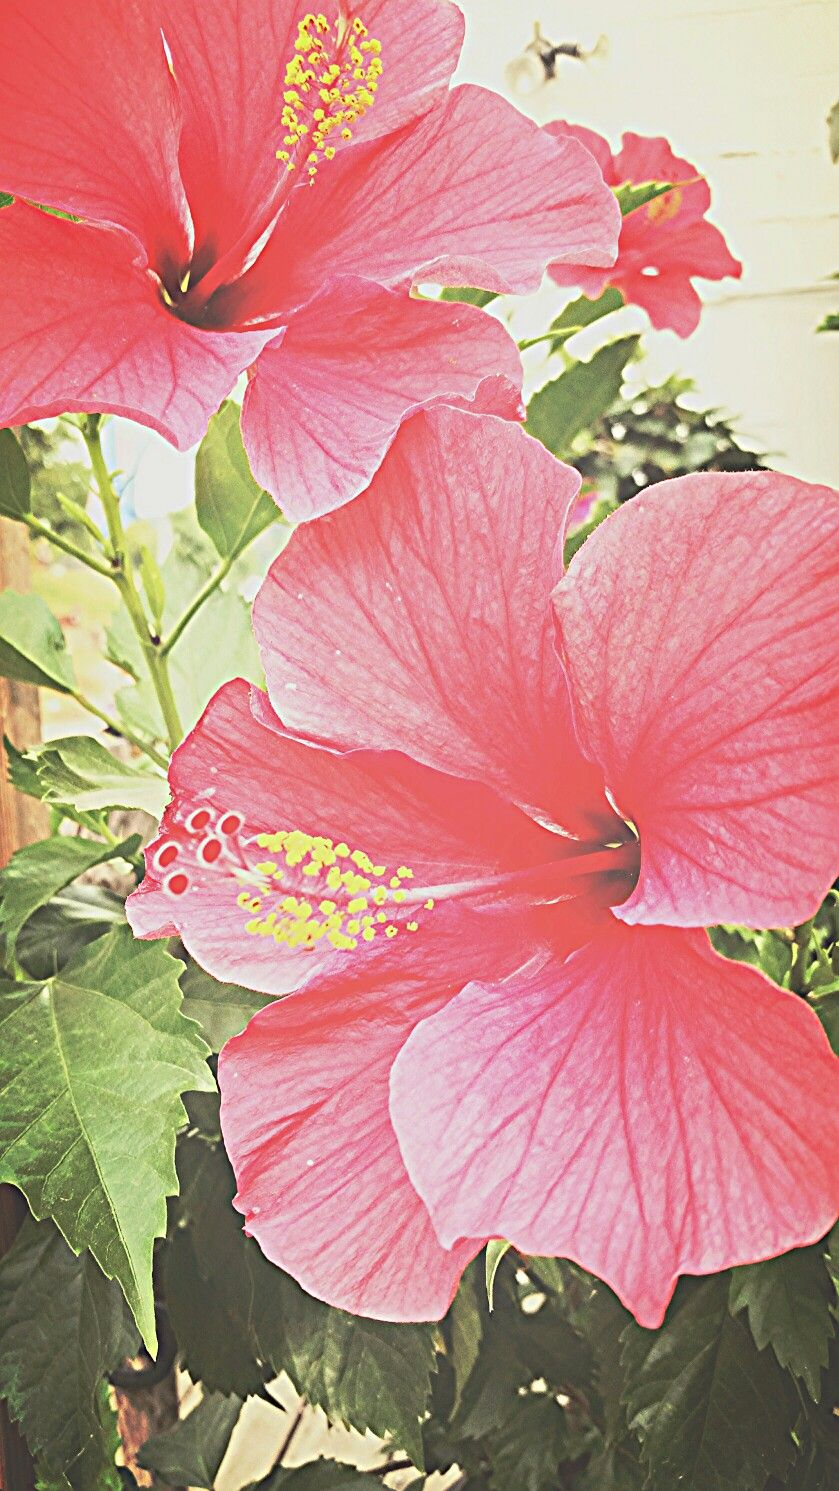Hibiscus: (187, 420, 839, 1343), (7, 7, 584, 483), (551, 93, 774, 350)
